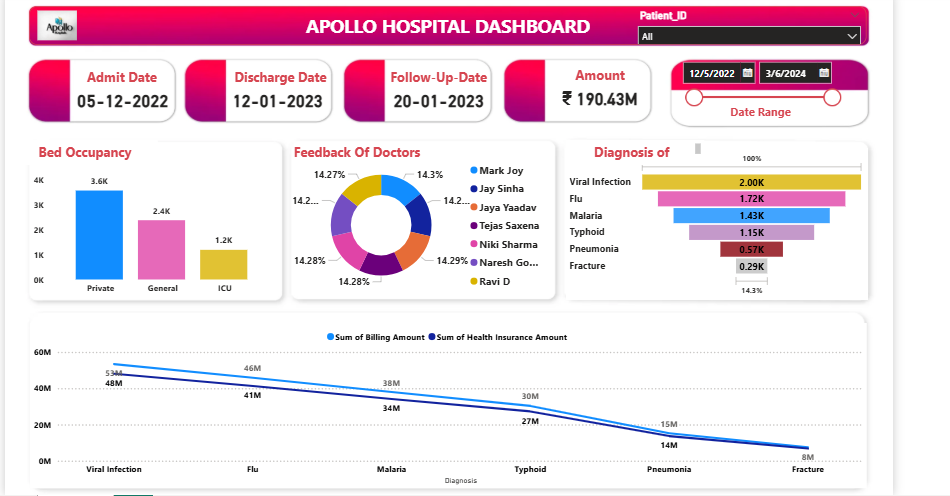

Layout of this report page (visuals, bound fields, positions):
{"tool":"powerbi","page":{"name":"Page 1","canvas":[1280,720],"ordinal":0},"visuals":[{"type":"textbox","box":[35.1,15.8,1206.3,56.2],"z":0},{"type":"image","box":[35.1,17.6,80.8,52.7],"z":1000},{"type":"card","fields":{"Values":["Apollo Health-Care.Admit_Date"]},"box":[98.3,123.4,143,55.4],"z":2000},{"type":"textbox","box":[94.7,100.1,146.6,46.5],"z":3000},{"type":"card","fields":{"Values":["Apollo Health-Care.Discharge_Date"]},"box":[321.8,123.4,143,55.4],"z":4000},{"type":"textbox","box":[321.1,100.8,151.2,44.6],"z":5000},{"type":"slicer","fields":{"Values":["Apollo Health-Care.Patient_ID"]},"box":[901,16.1,341.5,55.4],"z":6000},{"type":"card","fields":{"Values":["Apollo Health-Care.Followup Date"]},"box":[541.7,118,166.3,67.9],"z":7000},{"type":"textbox","box":[541.7,100.1,166.3,51.8],"z":8000},{"type":"card","fields":{"Values":["Apollo Health-Care.Billing Amount"]},"box":[784.8,118,143,60.8],"z":9000},{"type":"textbox","box":[766.9,98.3,178.8,37.5],"z":10000},{"type":"slicer","fields":{"Values":["Apollo Health-Care.Admit_Date"]},"box":[963.6,85.8,248.5,75.1],"z":11000},{"type":"textbox","box":[1006.5,152,162.7,34],"z":12000},{"type":"columnChart","fields":{"Category":["Apollo Health-Care.Bed_Occupancy"],"Y":["Apollo Health-Care.Bed_Occupancy"]},"box":[35.8,244.9,357.5,194.9],"z":13000},{"type":"textbox","box":[10.1,208.8,210.2,36],"z":14000},{"type":"donutChart","fields":{"Y":["Apollo Health-Care.Feedback"],"Category":["Apollo Health-Care.Doctor"]},"box":[409.4,223.5,375.4,216.3],"z":15000},{"type":"textbox","box":[388.8,208.8,236.2,47.5],"z":16000},{"type":"funnel","fields":{"Category":["Apollo Health-Care.Diagnosis"],"Y":["Apollo Health-Care.Diagnosis"]},"box":[807.8,220.3,434.9,218.9],"z":17000},{"type":"lineChart","fields":{"Category":["Apollo Health-Care.Diagnosis"],"Y":["Apollo Health-Care.Billing Amount","Apollo Health-Care.Health Insurance Amount"]},"box":[36,472.3,1205.3,237.6],"z":18000},{"type":"textbox","box":[807.8,208.8,198.7,36],"z":19000}]}

Visuals, with their boxes on the page's 1280x720 design canvas (x1, y1, x2, y2). These are canvas units, not pixel positions in the 950x496 screenshot, which may show the page scaled, cropped or inside an application window:
textbox: pyautogui.locateOnScreen(35, 16, 1241, 72)
image: pyautogui.locateOnScreen(35, 18, 116, 70)
card - Apollo Health-Care.Admit_Date: pyautogui.locateOnScreen(98, 123, 241, 179)
textbox: pyautogui.locateOnScreen(95, 100, 241, 147)
card - Apollo Health-Care.Discharge_Date: pyautogui.locateOnScreen(322, 123, 465, 179)
textbox: pyautogui.locateOnScreen(321, 101, 472, 145)
slicer - Apollo Health-Care.Patient_ID: pyautogui.locateOnScreen(901, 16, 1242, 72)
card - Apollo Health-Care.Followup Date: pyautogui.locateOnScreen(542, 118, 708, 186)
textbox: pyautogui.locateOnScreen(542, 100, 708, 152)
card - Apollo Health-Care.Billing Amount: pyautogui.locateOnScreen(785, 118, 928, 179)
textbox: pyautogui.locateOnScreen(767, 98, 946, 136)
slicer - Apollo Health-Care.Admit_Date: pyautogui.locateOnScreen(964, 86, 1212, 161)
textbox: pyautogui.locateOnScreen(1006, 152, 1169, 186)
columnChart - Apollo Health-Care.Bed_Occupancy x Apollo Health-Care.Bed_Occupancy: pyautogui.locateOnScreen(36, 245, 393, 440)
textbox: pyautogui.locateOnScreen(10, 209, 220, 245)
donutChart - Apollo Health-Care.Feedback x Apollo Health-Care.Doctor: pyautogui.locateOnScreen(409, 224, 785, 440)
textbox: pyautogui.locateOnScreen(389, 209, 625, 256)
funnel - Apollo Health-Care.Diagnosis x Apollo Health-Care.Diagnosis: pyautogui.locateOnScreen(808, 220, 1243, 439)
lineChart - Apollo Health-Care.Diagnosis x Apollo Health-Care.Billing Amount: pyautogui.locateOnScreen(36, 472, 1241, 710)
textbox: pyautogui.locateOnScreen(808, 209, 1006, 245)
